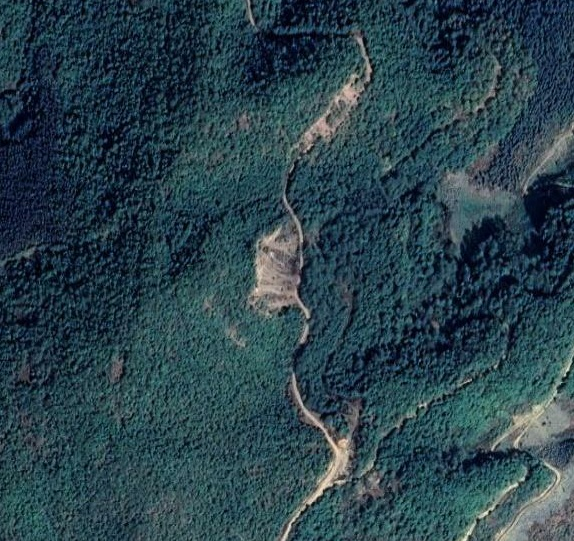slope: (294, 73, 366, 158), (250, 221, 302, 313), (318, 431, 362, 495)
